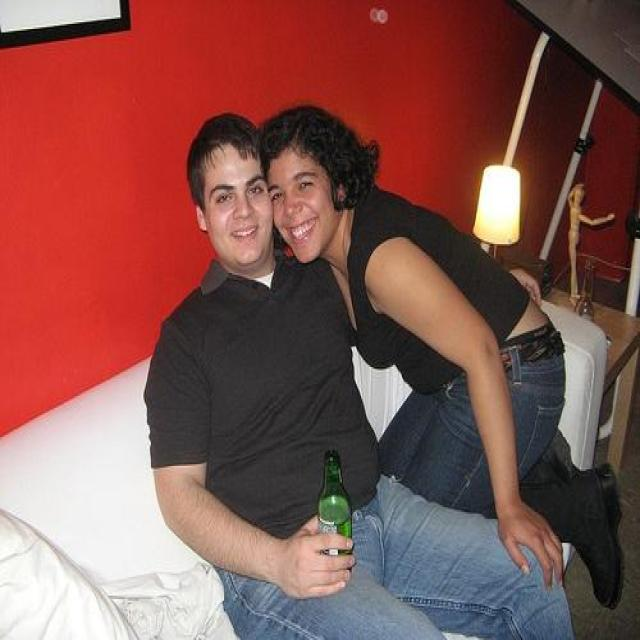No_Gloves: (282, 522, 364, 611), (488, 501, 564, 593)
